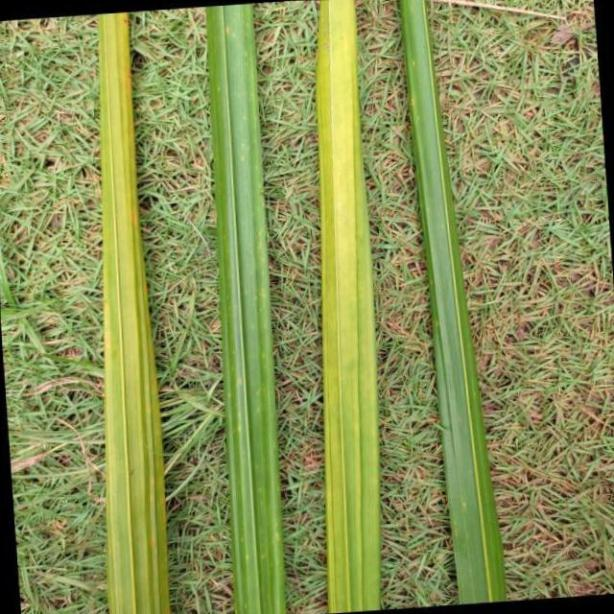nitrogen: (402, 0, 506, 614), (90, 0, 172, 614), (206, 0, 286, 614), (314, 0, 381, 614)
